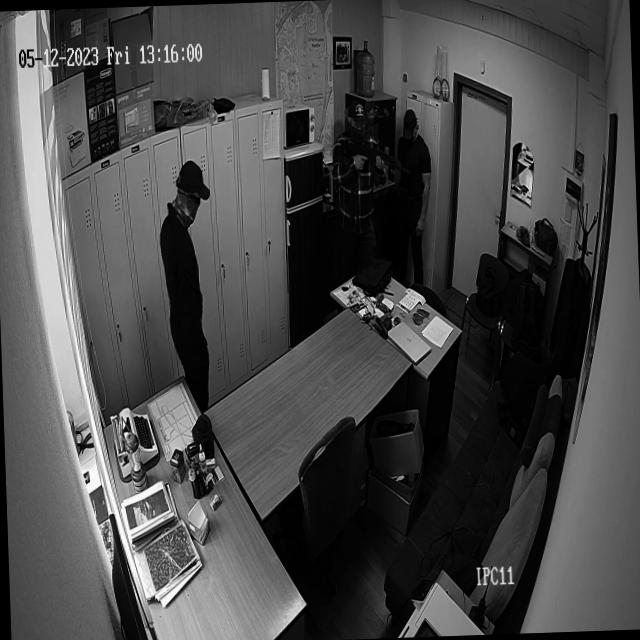gun: (345, 137, 409, 186)
person: (156, 156, 212, 412), (391, 109, 434, 273)
person with a gun: (332, 100, 414, 266)
